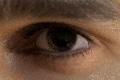eye: (47, 28, 77, 51)
